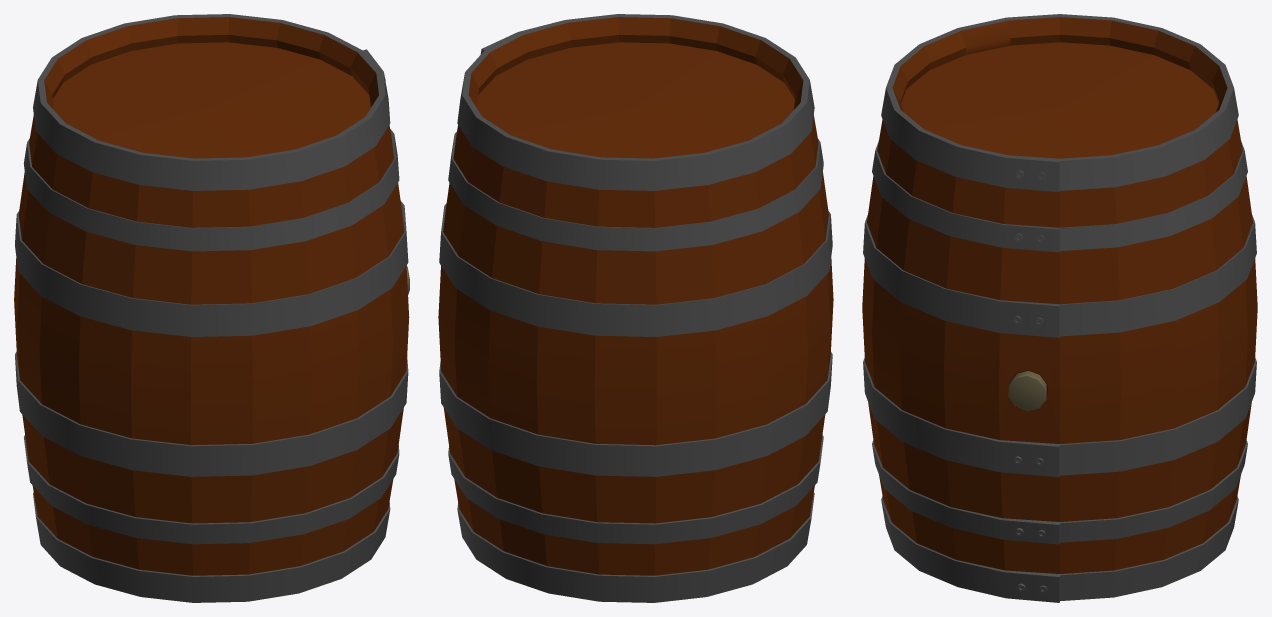
File: barile.glb
3 views of the same model, side by side, from view 1: azimuth 30°, elevation 25°; view 2: azimuth 150°, elevation 25°; view 3: azimuth 270°, elevation 25° (orthographic).
Visible parts, largest first — view 1: Object_2; view 2: Object_2; view 3: Object_2.
Boxes of the visible parts, x1,y1,x2,y2 form: Object_2: (14, 14, 409, 602); Object_2: (438, 14, 833, 602); Object_2: (862, 14, 1257, 602).
Bounding box in the file's own units: 2.1 × 2.52 × 2.05.
